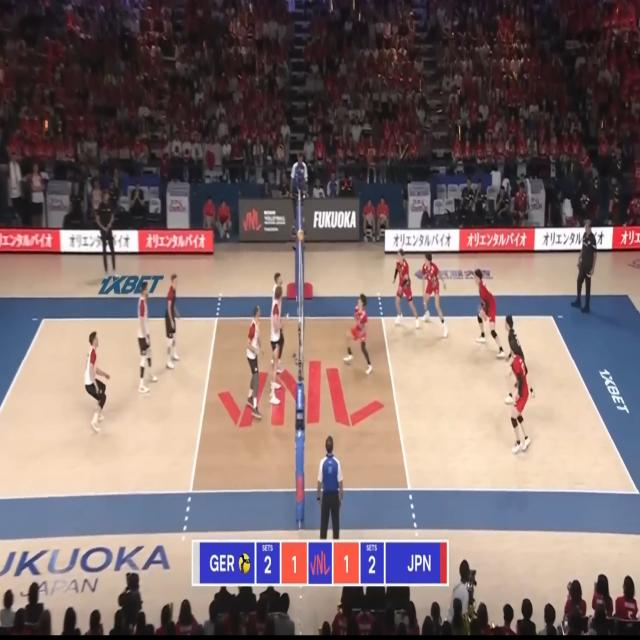ball: (297, 229, 305, 241)
